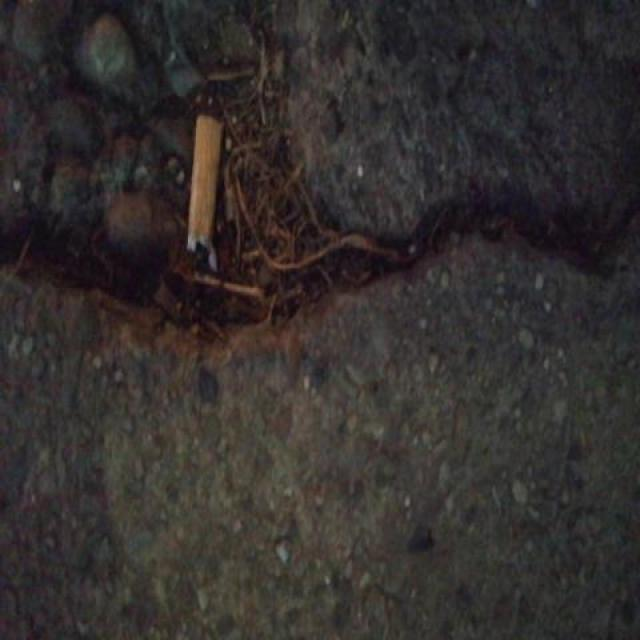non-organic waste: (183, 112, 226, 276)
